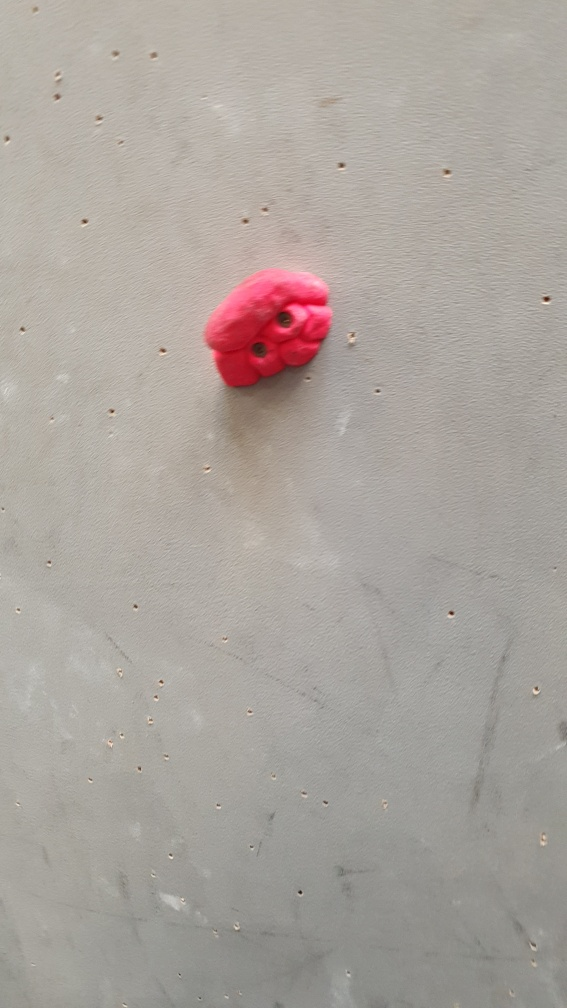Jug: (201, 263, 339, 393)
